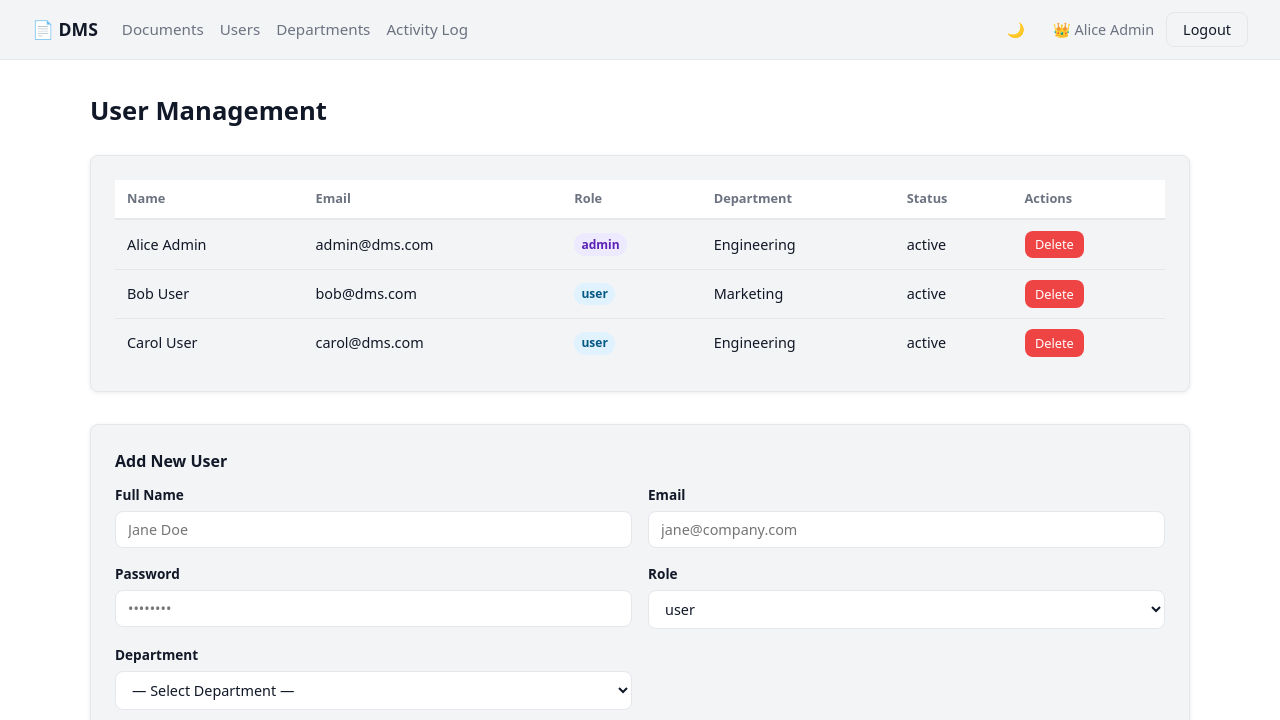
Test case: Admin Users Page › adds a new user
Step 1. Type "Dave Test" into the field with test id "user-name-input" → (374, 530), box top-left (115, 511), bottom-right (632, 548)
Step 2. Type "dave@dms.com" into the field with test id "user-email-input" → (907, 530), box top-left (648, 511), bottom-right (1165, 548)
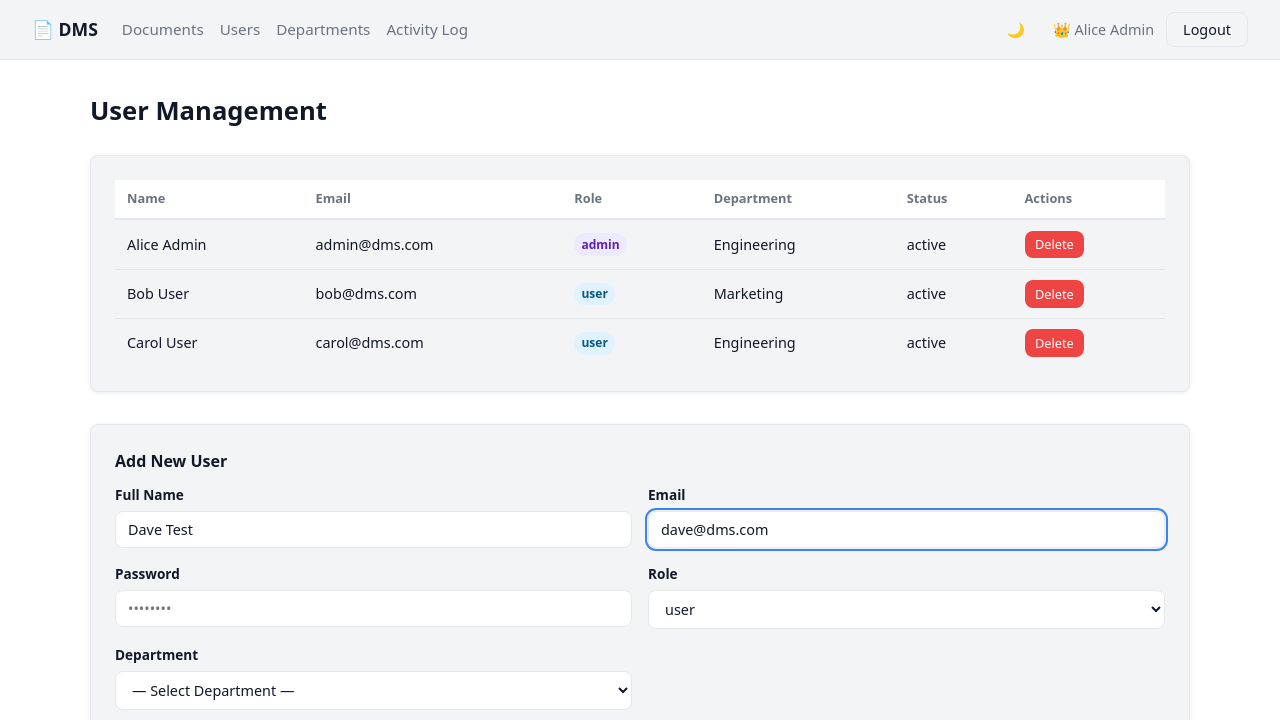
Step 3. Type "pass123" into the password field with placeholder "••••••••" → (374, 609), box top-left (115, 590), bottom-right (632, 627)
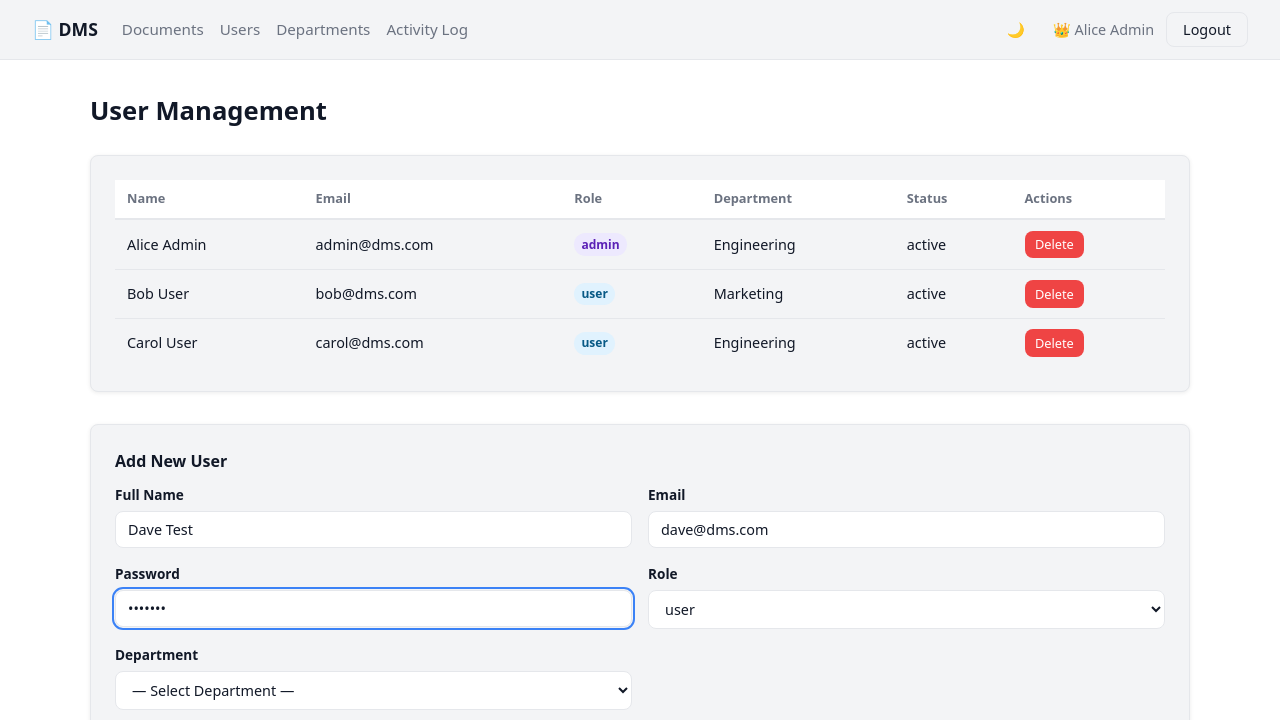
Step 4. Select "user" in the dropdown with test id "user-role-select" → (907, 610), box top-left (648, 590), bottom-right (1165, 629)
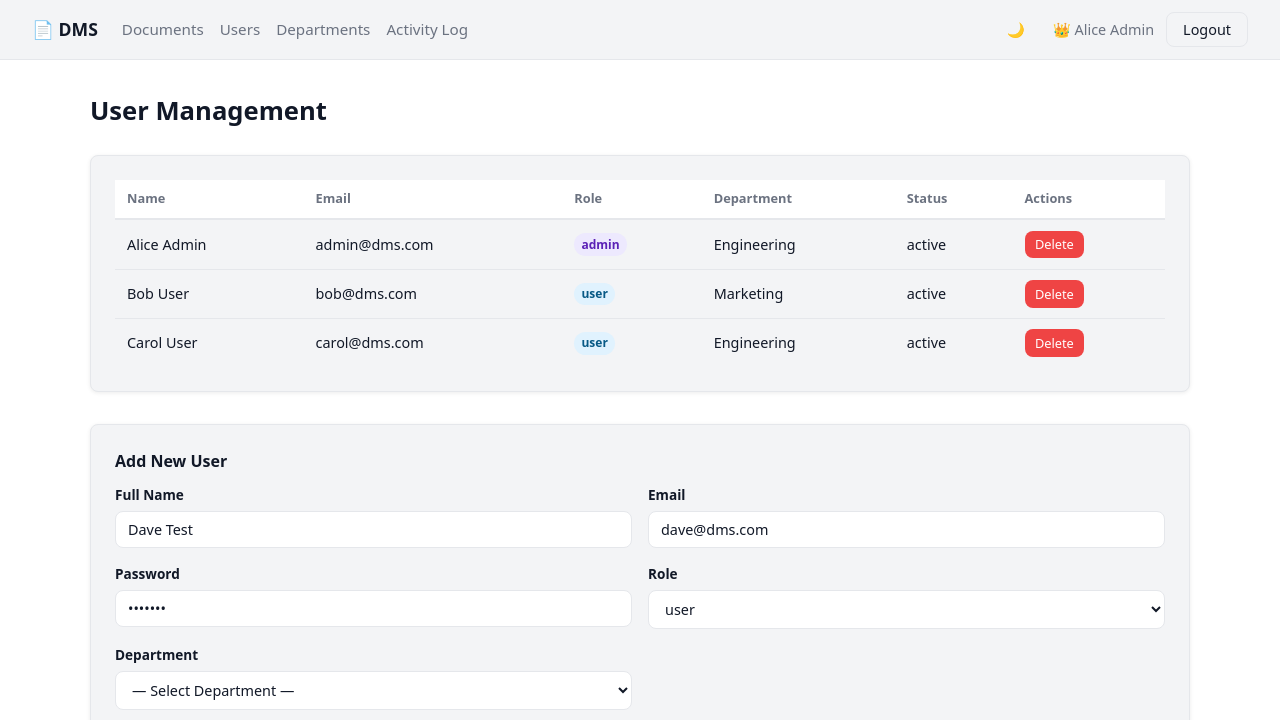
Step 5. Select "Engineering" in the dropdown with test id "user-dept-select" → (374, 691), box top-left (115, 671), bottom-right (632, 710)
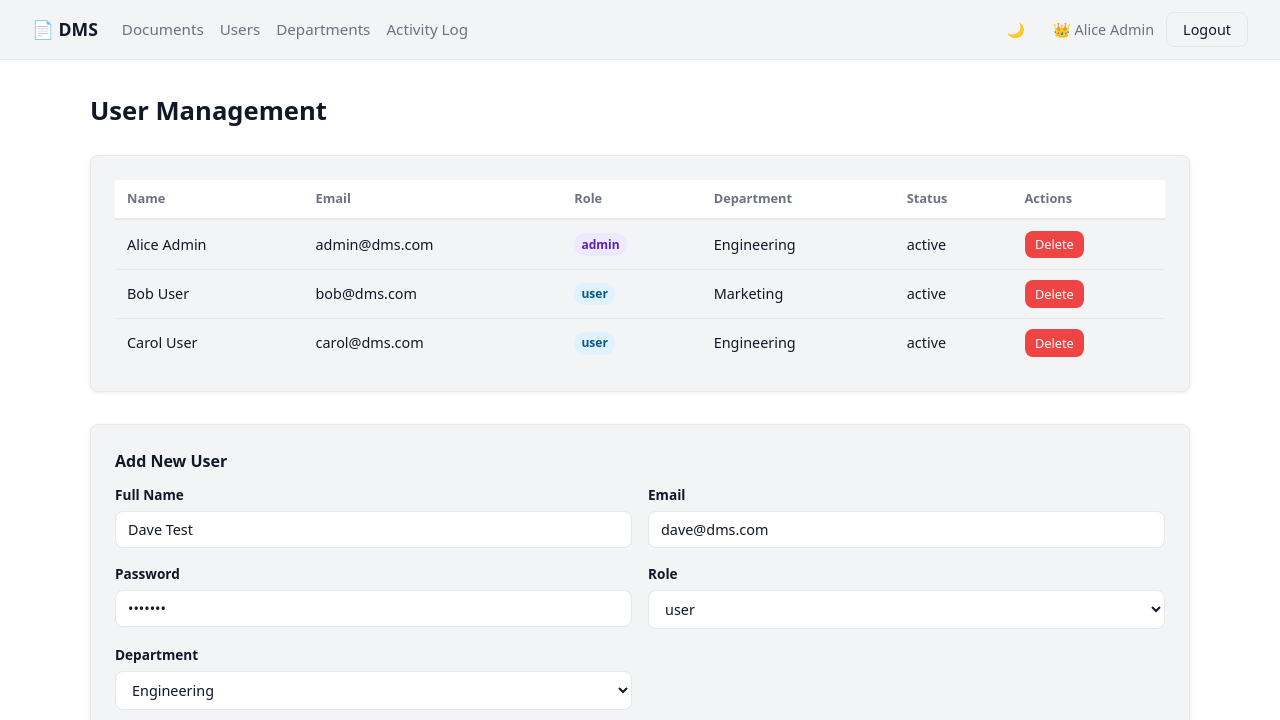
Step 6. Scroll
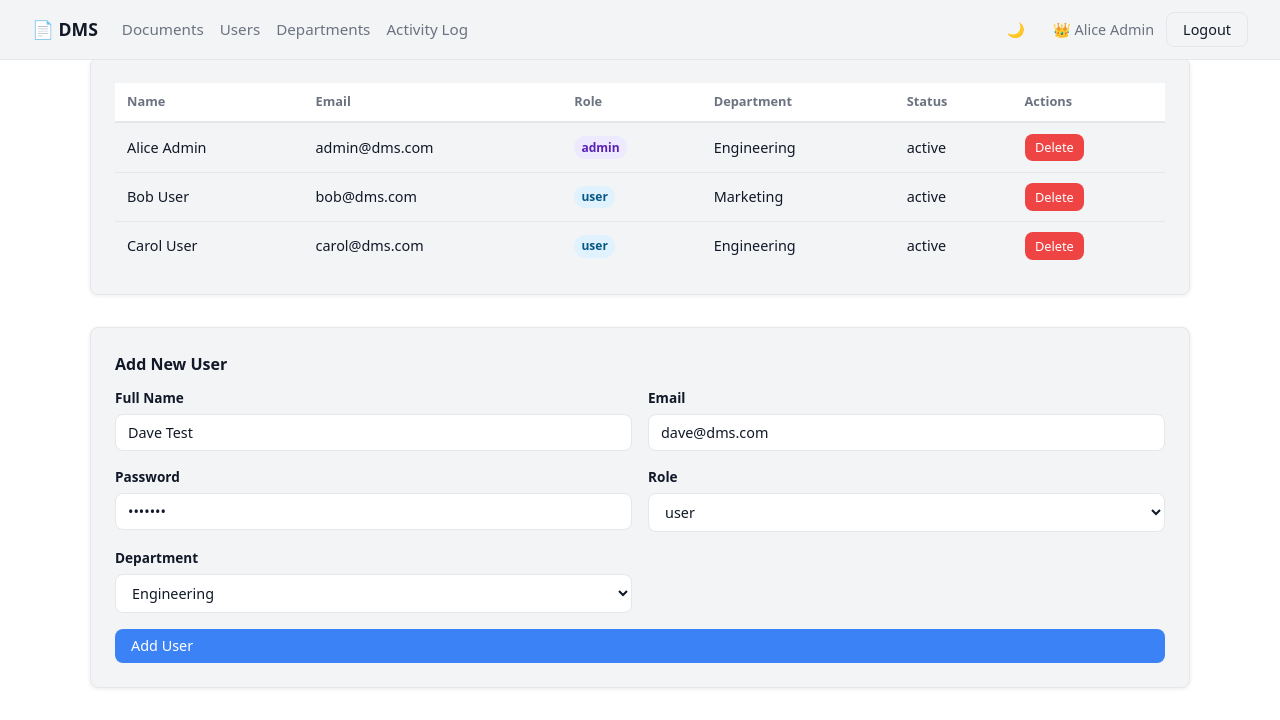
Step 7. Click the button with test id "add-user-submit" → click(162, 646), box top-left (115, 629), bottom-right (1165, 662)
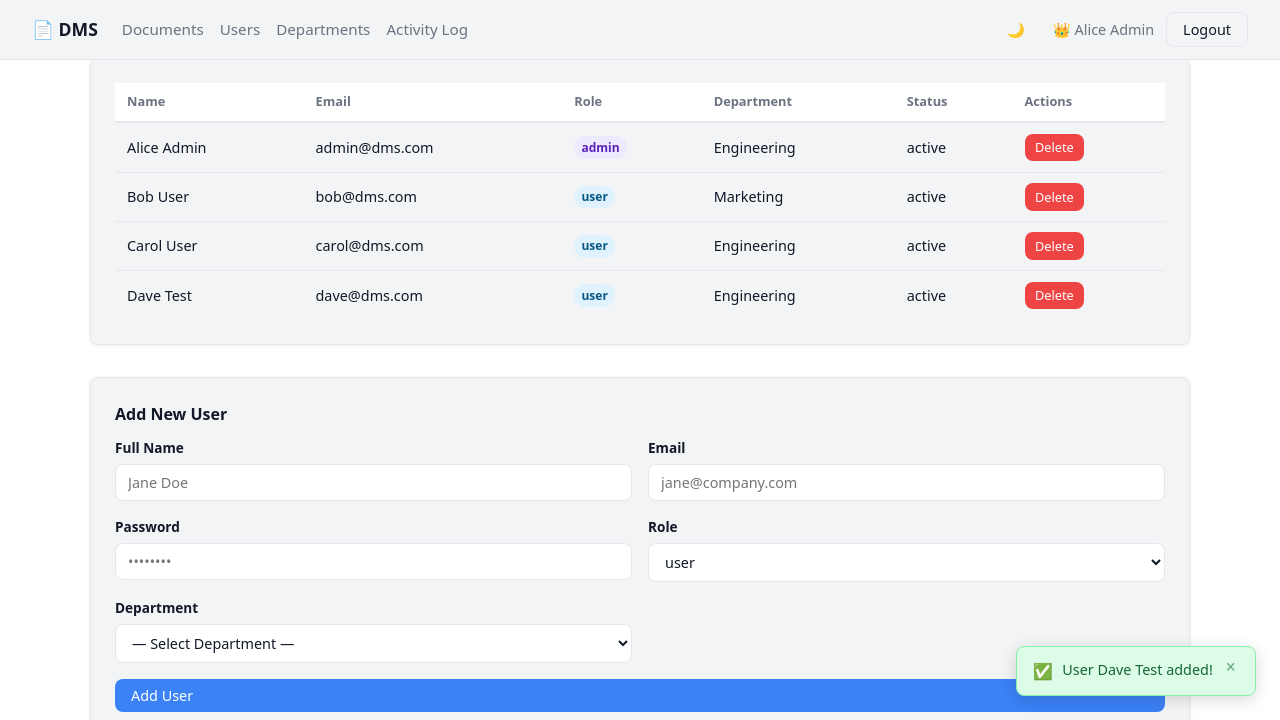
Check: the text "User Dave Test added!" is shown, box top-left (1062, 659), bottom-right (1213, 681)
